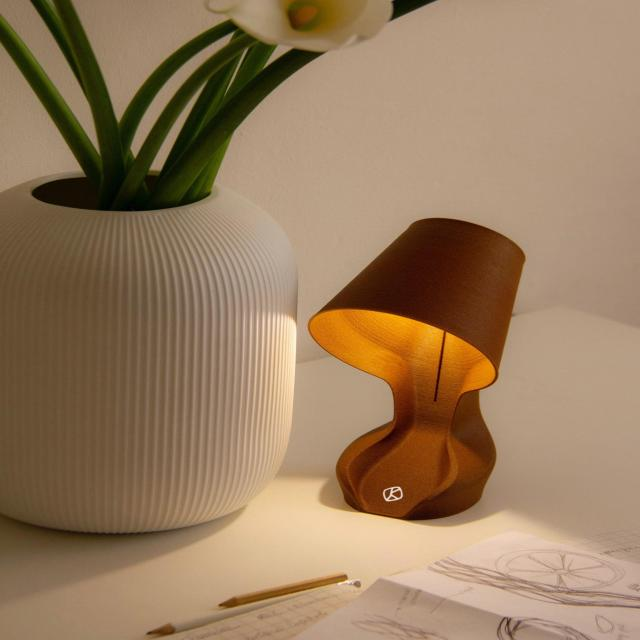Without deffect: (281, 204, 548, 534)
